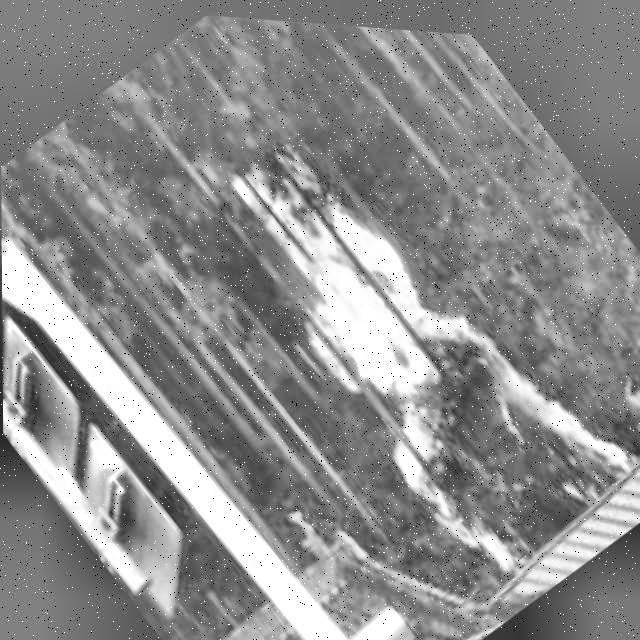Fire: (190, 87, 630, 590)
